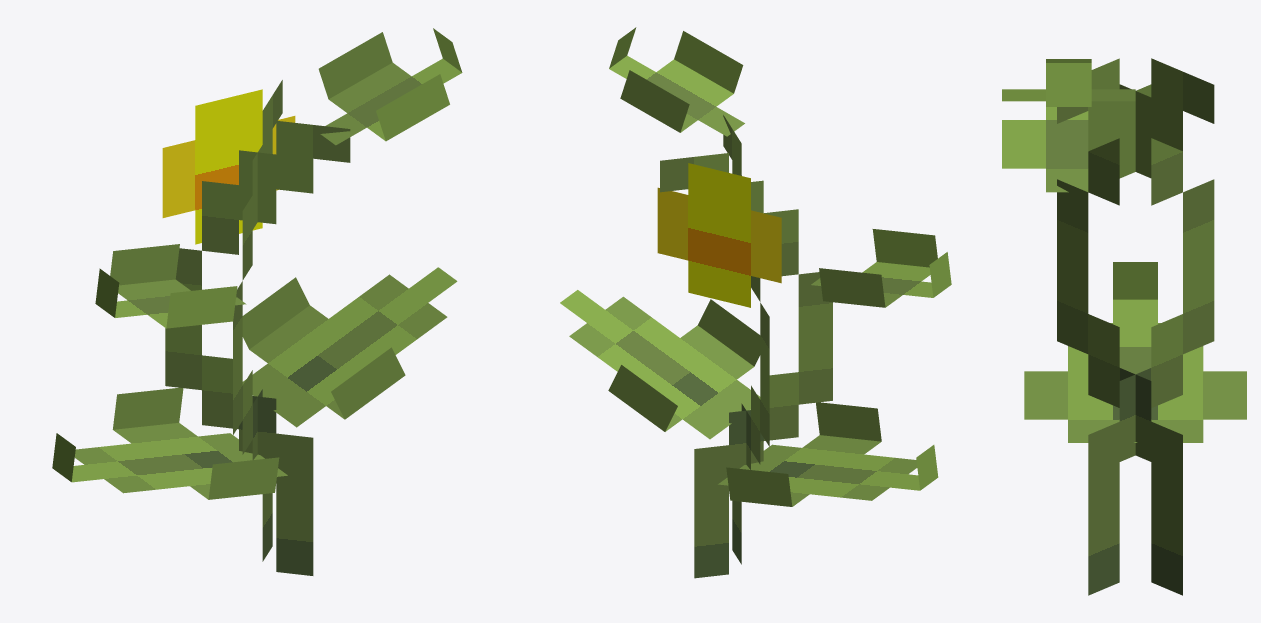
File: cucumber-stage2.gltf
3 views of the same model, side by side, from view 1: azimuth 30°, elevation 25°; view 2: azimuth 150°, elevation 25°; view 3: azimuth 270°, elevation 25° (orthographic). The views are drawn at different scales.
Parts seen in each view (by area): view 1: cube; view 2: cube; view 3: cube.
Boxes of the visible parts, x1=… form: cube: x1=52, y1=28, x2=462, y2=575; cube: x1=560, y1=27, x2=951, y2=578; cube: x1=1002, y1=58, x2=1246, y2=595.
Size of the model in its own units: 0.7273 by 0.9322 by 0.3438.
1 material, 1 textured.
